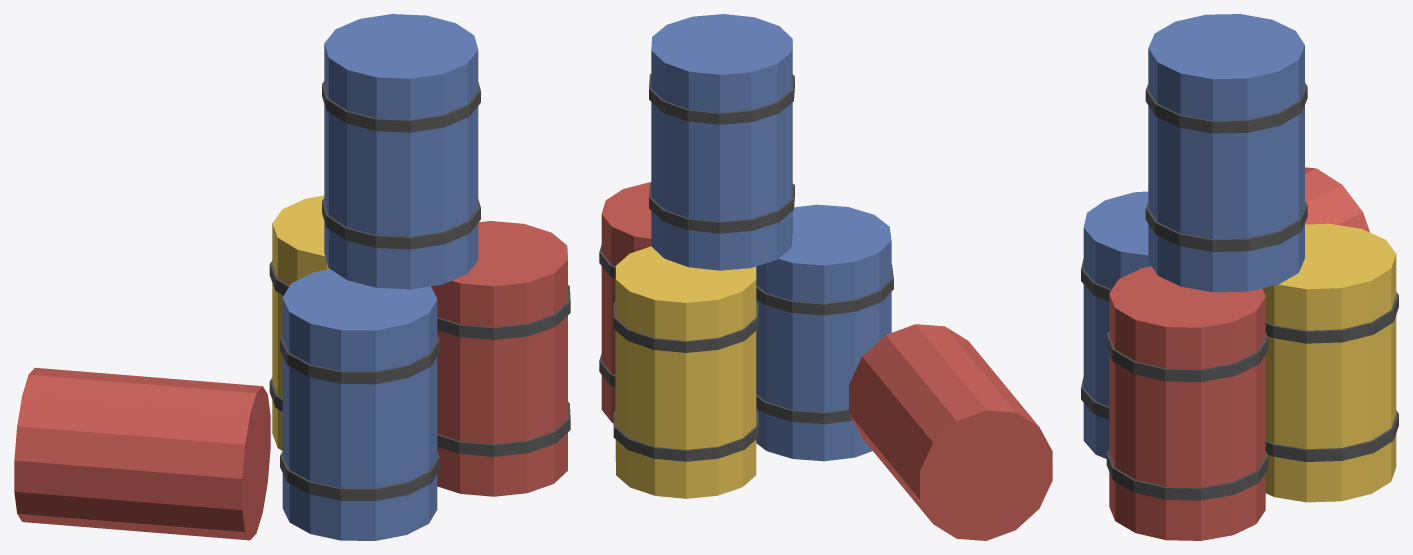
Rendered from env_drum_cluster.glb.
3 renders of one model, left to right at view 1: azimuth 30°, elevation 25°; view 2: azimuth 150°, elevation 25°; view 3: azimuth 270°, elevation 25°, orthographic. The views are drawn at different scales.
Parts seen in each view (by area): view 1: env_drum_cluster; view 2: env_drum_cluster; view 3: env_drum_cluster.
Boxes of the visible parts, x1=… form: env_drum_cluster: x1=14, y1=14, x2=570, y2=540; env_drum_cluster: x1=599, y1=14, x2=1052, y2=540; env_drum_cluster: x1=1081, y1=14, x2=1398, y2=540.
Bounding box in the file's own units: 2.29 × 1.8 × 1.22.
